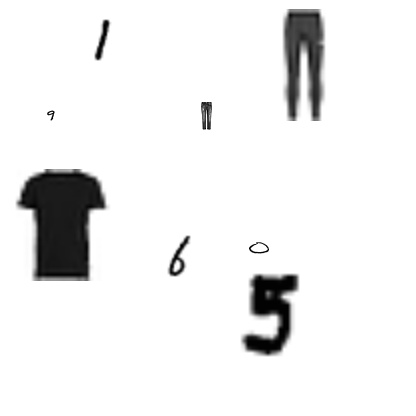0: (244, 234, 272, 262)
1: (73, 10, 129, 66)
5: (214, 255, 326, 367)
6: (150, 230, 206, 286)
9: (44, 107, 58, 121)
T-shirt/top: (5, 169, 117, 281)
Trouser: (248, 9, 360, 121), (192, 102, 220, 130)
